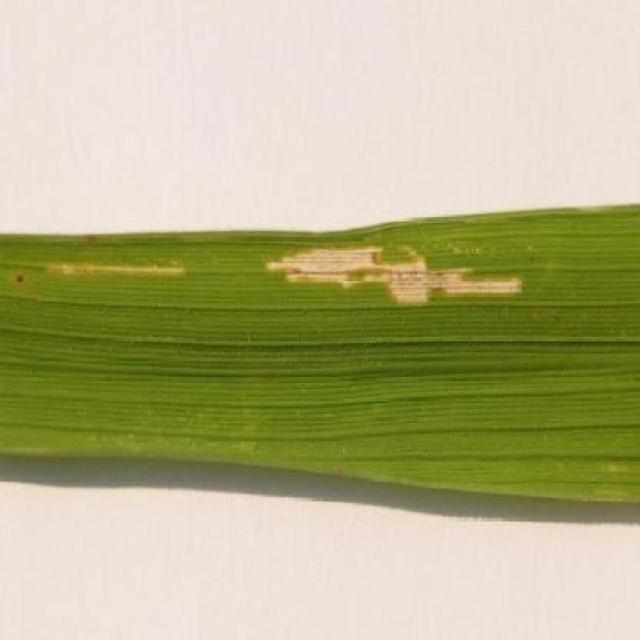Brown_Spot: (0, 203, 640, 540)
